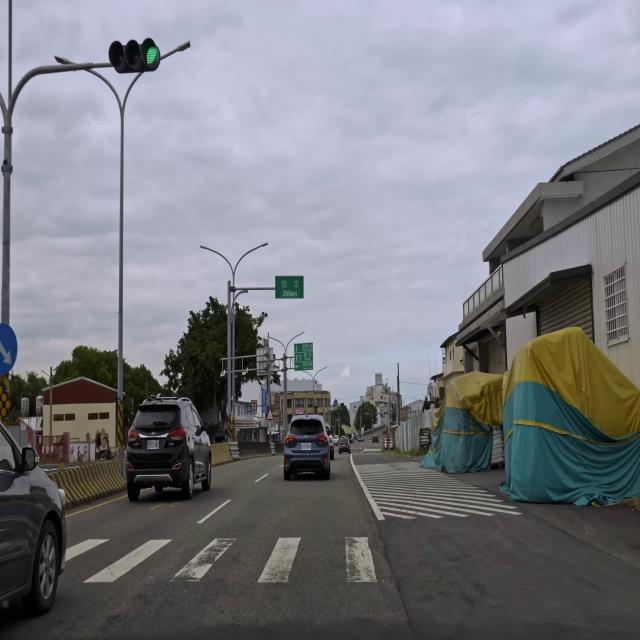green light: (106, 40, 162, 71)
